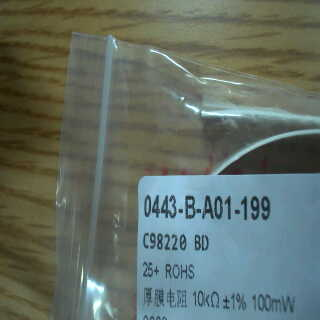10kR: (191, 286, 221, 310)
